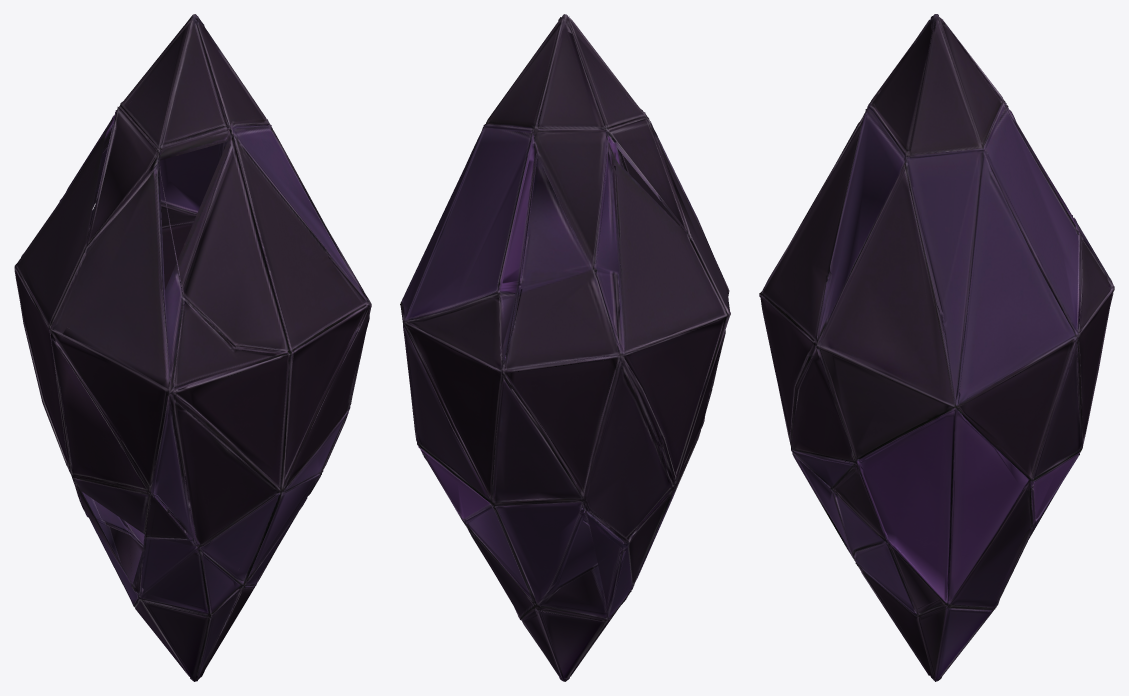
File: violet_relic_crystal.glb
3 views of the same model, side by side, from view 1: azimuth 30°, elevation 25°; view 2: azimuth 150°, elevation 25°; view 3: azimuth 270°, elevation 25° (orthographic).
Visible parts, largest first — view 1: tripo_node_ac6d090f-e47c-4a56-8742-24c7478f6b16; view 2: tripo_node_ac6d090f-e47c-4a56-8742-24c7478f6b16; view 3: tripo_node_ac6d090f-e47c-4a56-8742-24c7478f6b16.
Part boxes in pixels (<box>): tripo_node_ac6d090f-e47c-4a56-8742-24c7478f6b16: <box>14,14,371,681</box>; tripo_node_ac6d090f-e47c-4a56-8742-24c7478f6b16: <box>400,14,730,681</box>; tripo_node_ac6d090f-e47c-4a56-8742-24c7478f6b16: <box>759,14,1114,681</box>.
Size of the model in its own units: 0.4824 by 0.998 by 0.4824.
1 material, 1 textured.
